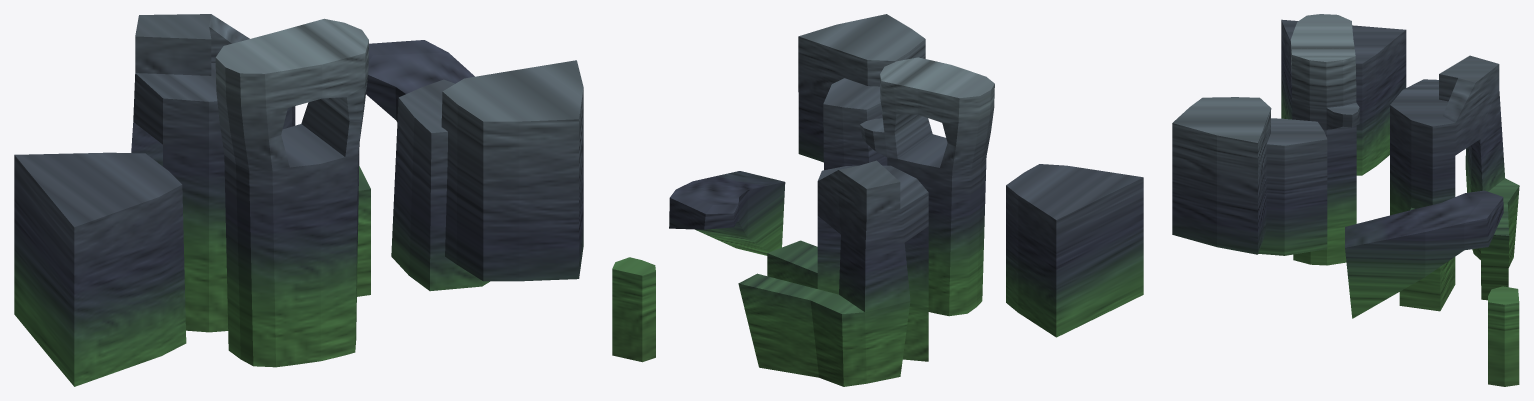
File: Pantanos02.001.fbx
3 views of the same model, side by side, from view 1: azimuth 30°, elevation 25°; view 2: azimuth 150°, elevation 25°; view 3: azimuth 270°, elevation 25° (orthographic). The views are drawn at different scales.
Parts seen in each view (by area): view 1: Pantanos02.001; view 2: Pantanos02.001; view 3: Pantanos02.001.
Boxes of the visible parts, x1=… form: Pantanos02.001: x1=14, y1=14, x2=583, y2=386; Pantanos02.001: x1=612, y1=14, x2=1143, y2=386; Pantanos02.001: x1=1172, y1=14, x2=1519, y2=386.
Size of the model in its own units: 51.14 by 30.45 by 39.35.
